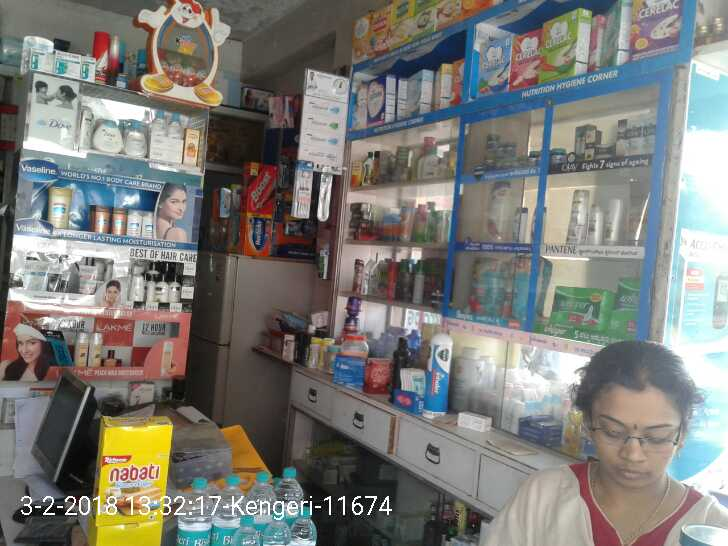beauty: (480, 181, 515, 243), (611, 120, 659, 162), (564, 188, 586, 247), (602, 195, 621, 245), (584, 202, 599, 248)
pharmacy: (547, 280, 610, 331), (472, 130, 561, 164), (467, 253, 505, 320), (509, 257, 543, 330), (606, 272, 641, 339)
